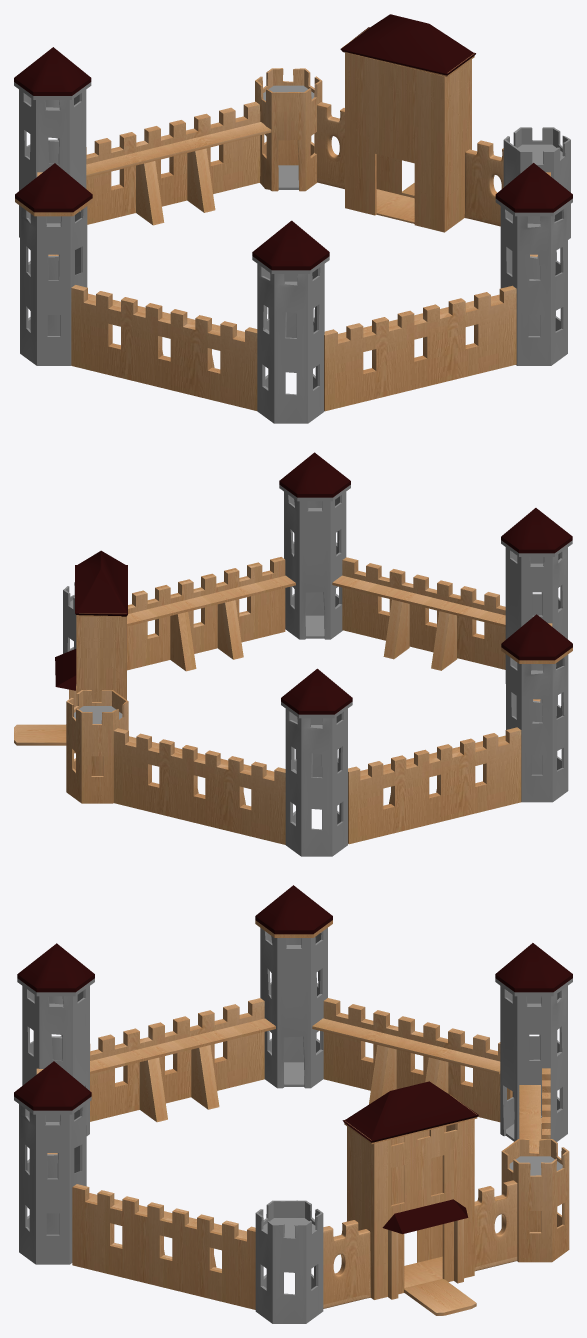
Rendered from Castle(only for test).FBX.
The picture shows the model from 3 angles, top to bottom: view 1: azimuth 30°, elevation 25°; view 2: azimuth 150°, elevation 25°; view 3: azimuth 270°, elevation 25°; orthographic projection. The views are drawn at different scales.
Visible parts, largest first — view 1: Rectangle001, Box014, Box010, NGon015, Box001, NGon009, NGon021, NGon027, NGon001, Box022, Rectangle003, NGon033 (+9 smaller); view 2: Box006, Box001, NGon001, Box014, NGon021, Box018, NGon009, NGon027, NGon015, Rectangle001, Rectangle003, Box017 (+12 smaller); view 3: Rectangle001, Box018, Box010, NGon021, NGon009, Box006, NGon001, NGon033, Box022, NGon027, NGon015, Rectangle003 (+17 smaller).
Boxes of the visible parts, bbox=[...] form: Rectangle001: bbox=[345, 52, 471, 232]; Box014: bbox=[324, 285, 516, 411]; Box010: bbox=[71, 285, 257, 410]; NGon015: bbox=[257, 264, 324, 423]; Box001: bbox=[86, 101, 260, 224]; NGon009: bbox=[20, 206, 87, 365]; NGon021: bbox=[500, 206, 567, 365]; NGon027: bbox=[255, 68, 322, 191]; NGon001: bbox=[19, 89, 86, 237]; Box022: bbox=[315, 102, 503, 226]; Rectangle003: bbox=[340, 14, 475, 75]; NGon033: bbox=[503, 127, 570, 239]; Box006: bbox=[348, 727, 521, 844]; Box001: bbox=[113, 728, 285, 844]; NGon001: bbox=[285, 709, 347, 856]; Box014: bbox=[342, 557, 505, 669]; NGon021: bbox=[284, 492, 346, 639]; Box018: bbox=[127, 557, 285, 670]; NGon009: bbox=[506, 654, 568, 802]; NGon027: bbox=[66, 690, 128, 803]; NGon015: bbox=[505, 547, 567, 683]; Rectangle001: bbox=[76, 616, 126, 701]; Rectangle003: bbox=[75, 550, 127, 616]; Box017: bbox=[332, 575, 505, 627]; Rectangle001: bbox=[347, 1119, 474, 1299]; Box018: bbox=[72, 1184, 255, 1309]; Box010: bbox=[90, 998, 264, 1121]; NGon021: bbox=[19, 1104, 86, 1264]; NGon009: bbox=[260, 928, 327, 1088]; Box006: bbox=[323, 998, 512, 1122]; NGon001: bbox=[500, 986, 567, 1141]; NGon033: bbox=[255, 1200, 323, 1323]; Box022: bbox=[323, 1180, 517, 1308]; NGon027: bbox=[501, 1138, 569, 1262]; NGon015: bbox=[22, 986, 89, 1135]; Rectangle003: bbox=[342, 1081, 478, 1142].
Size of the model in its own units: 1440 by 493 by 1295.
3 materials, 1 textured.
